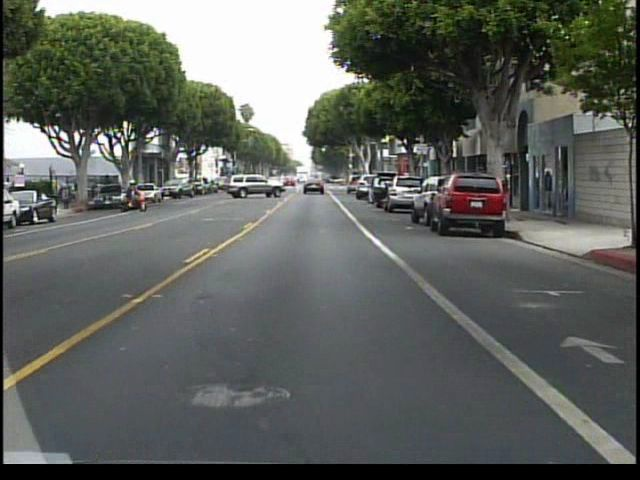person: (127, 179, 147, 211), (100, 171, 117, 206)
